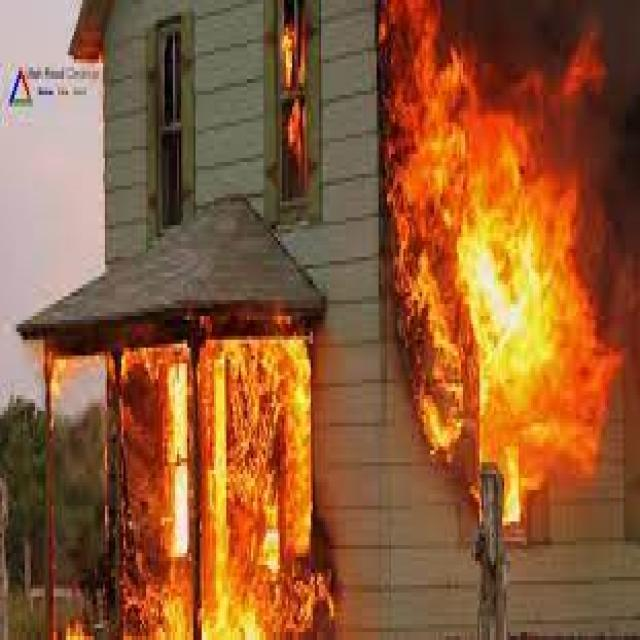Fire: (384, 0, 618, 514), (202, 343, 312, 640), (123, 355, 191, 640)
Smoke: (460, 0, 640, 323)
